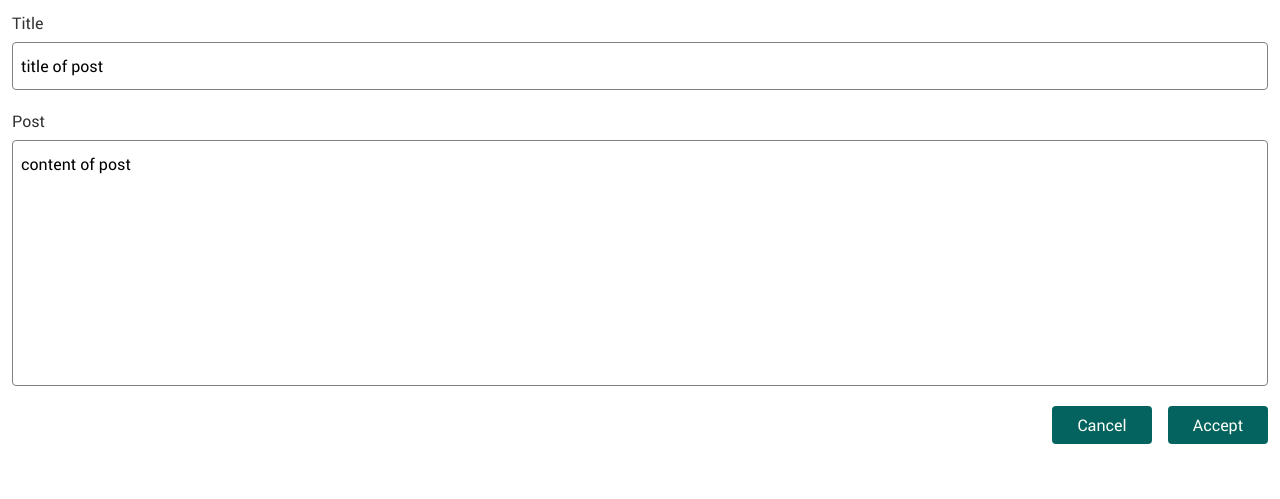
Test: Editing post is not succesfull (server returns not success)
The image size is (1280, 499).
Type "some edited content" into the text box labelled "Post" at coordinates (640, 263), box [12,140,1268,386]
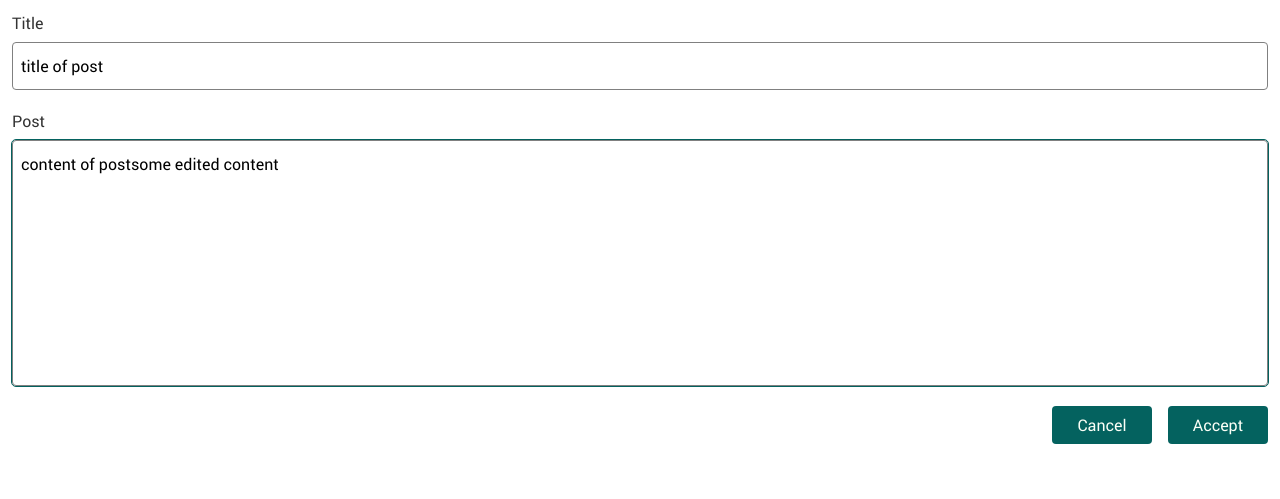
Click the button "Accept" at coordinates (1218, 425), box [1168,406,1268,444]
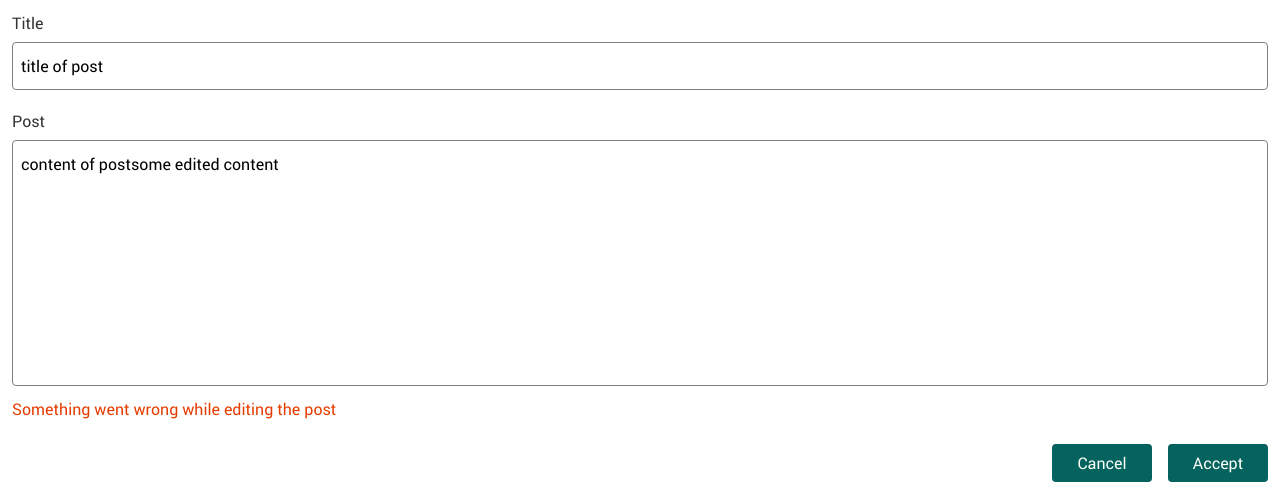
Expected: the text "Something went wrong while editing the post" is shown, [12,398,336,420]
